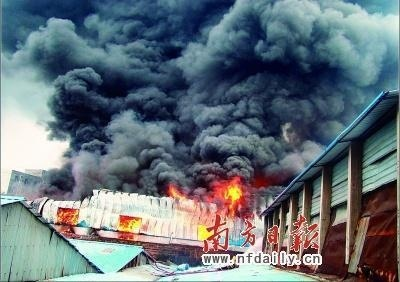fire: (215, 176, 243, 206), (118, 213, 143, 231), (58, 206, 79, 222)
